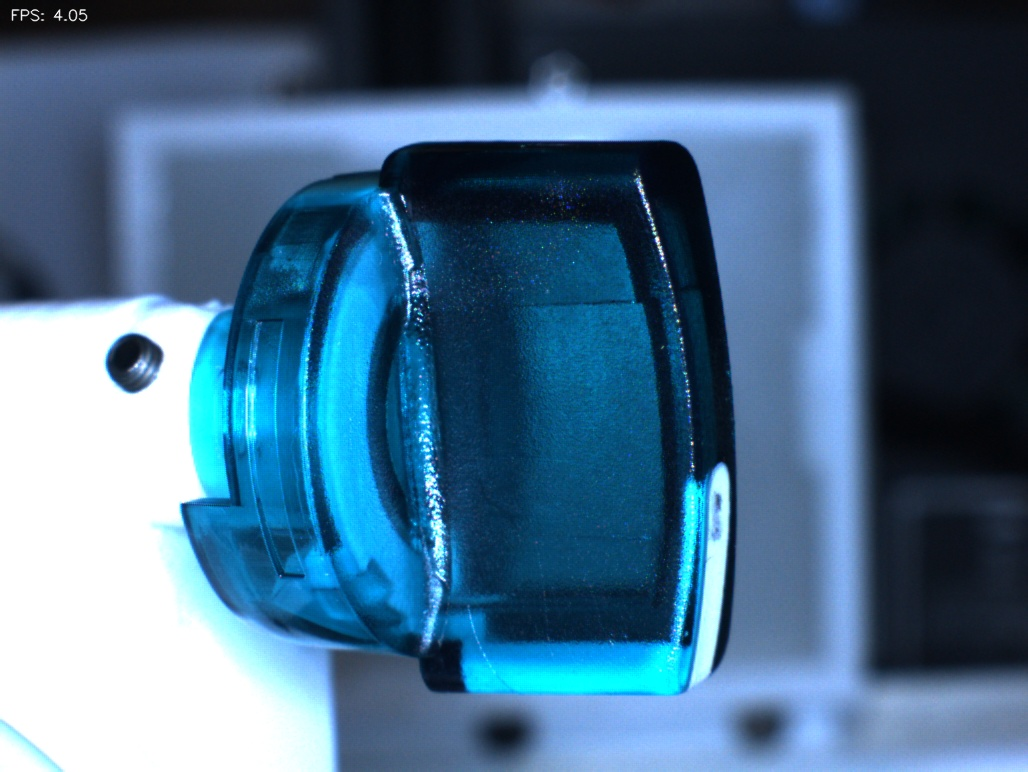PointNoir: (680, 483, 755, 549)
